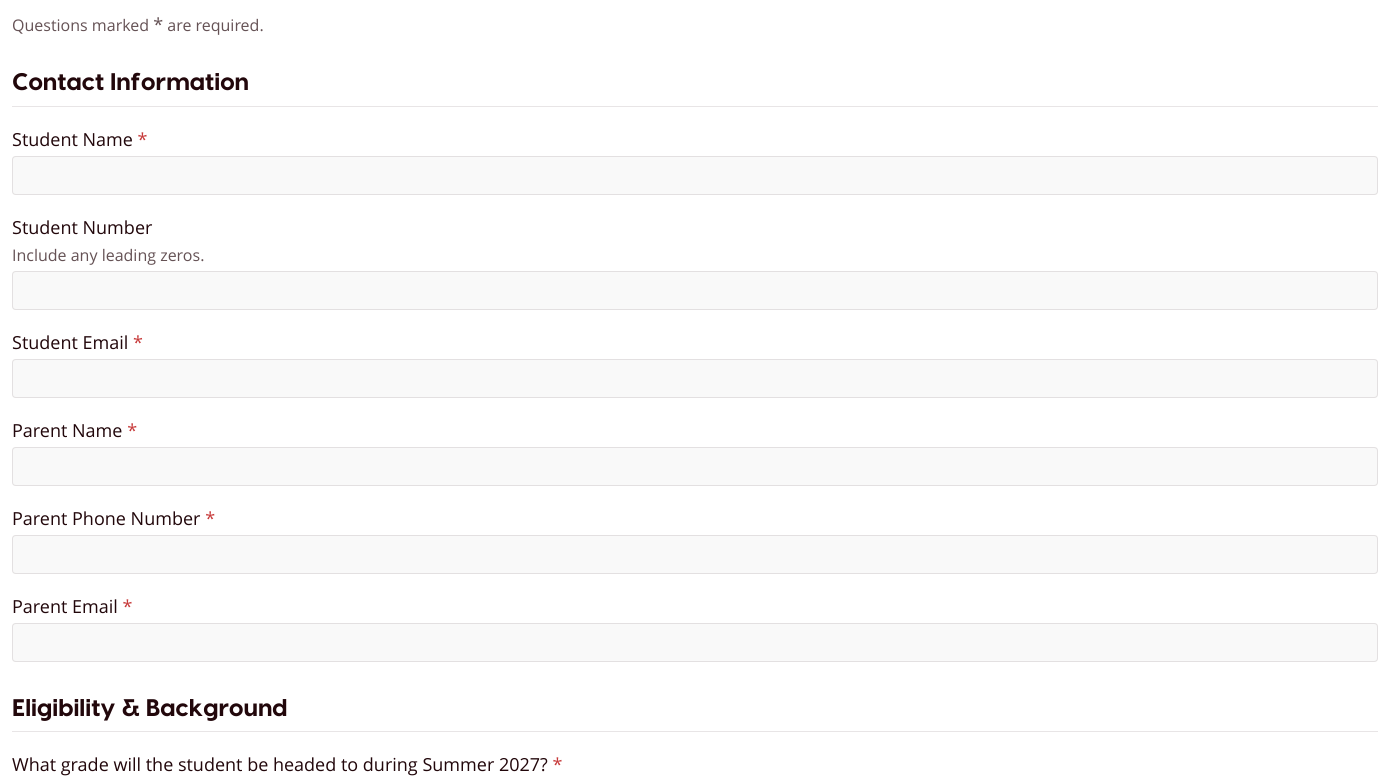
Test: DynamicForm › clears an error once the answer is fixed
This screenshot has width=1390, height=780.
In the field labelled "Student Email *": [695, 378] box [12, 358, 1378, 398], type "ada"
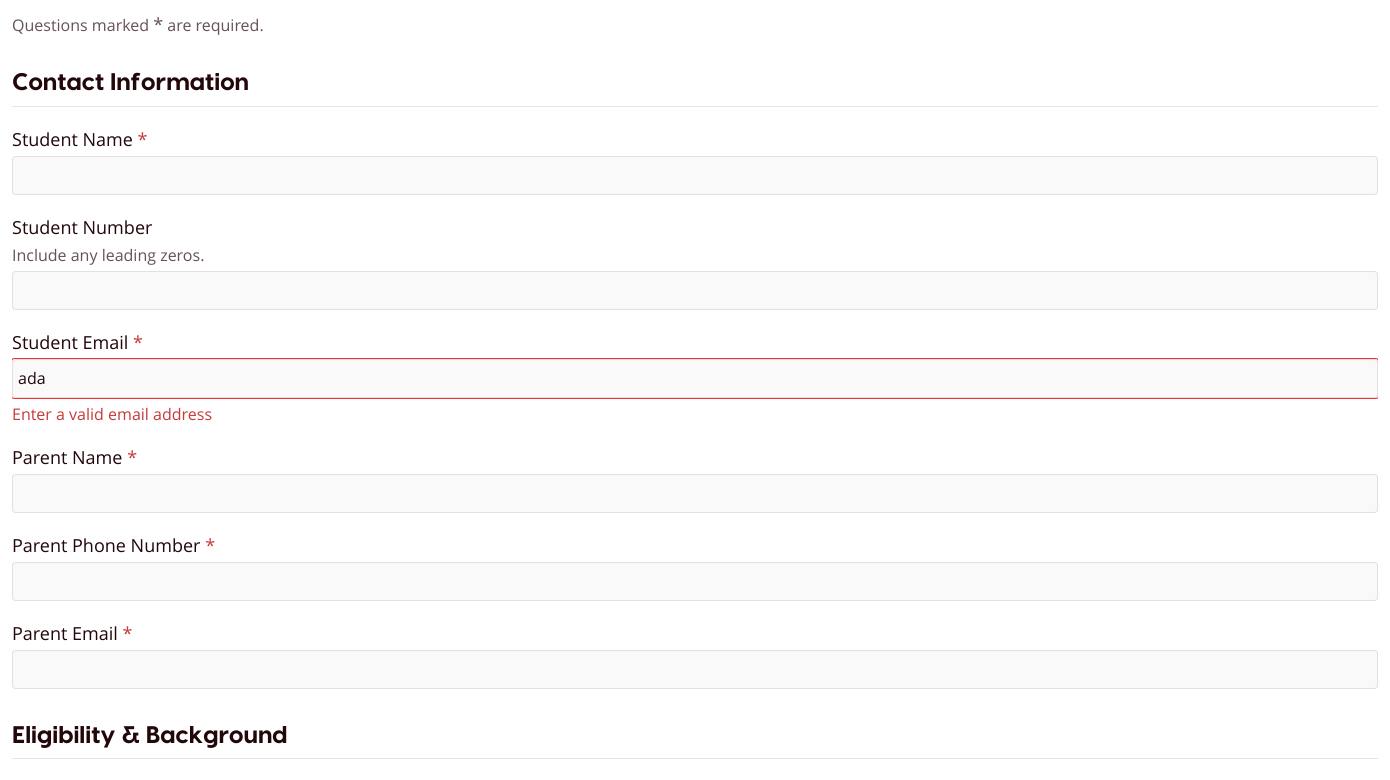
Replace the text in the field labelled "Student Email *" with "ada@example.com": [695, 378] box [12, 358, 1378, 398]
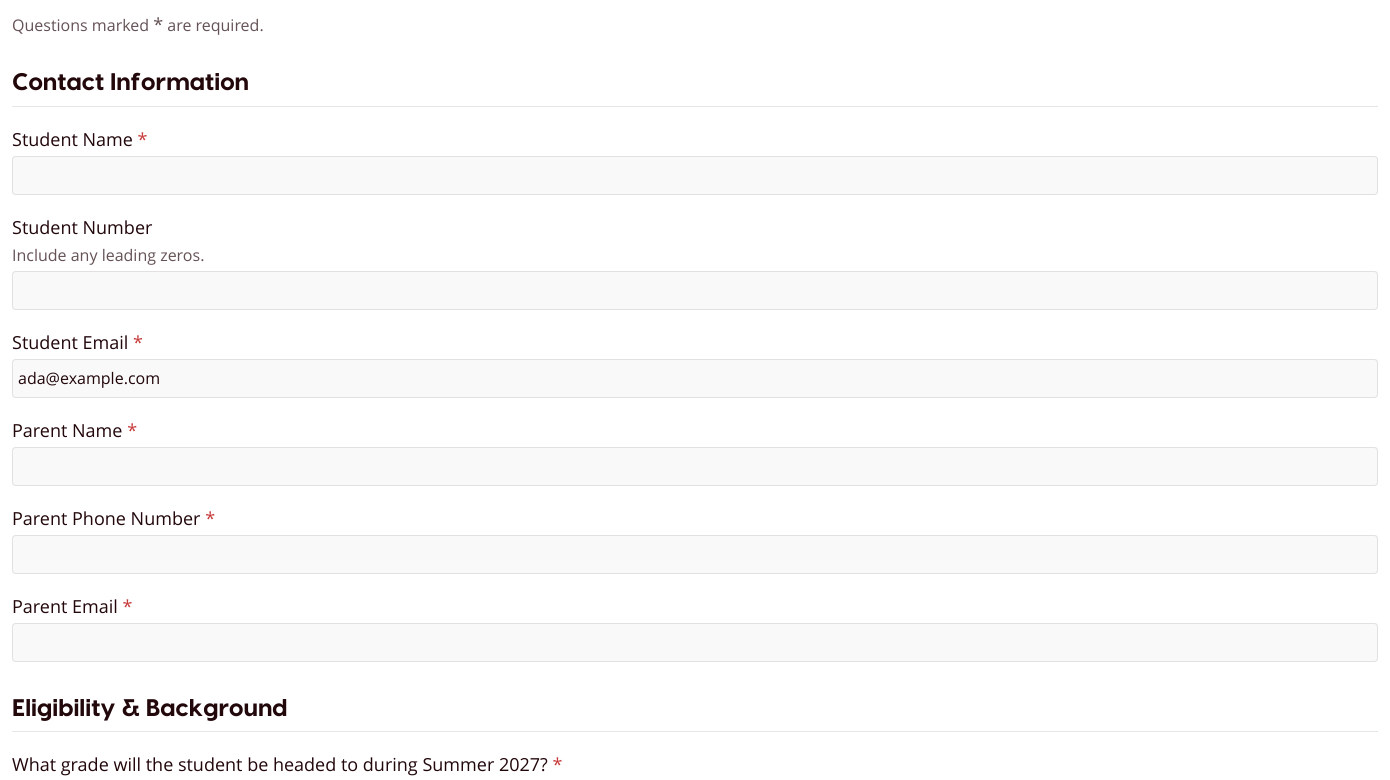
Check: the text "Enter a valid email address" is gone
